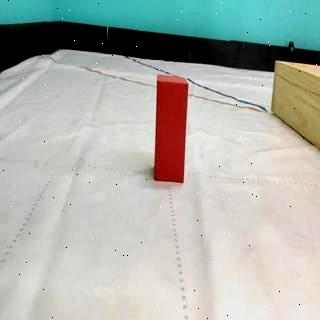redbox: (153, 74, 190, 182)
